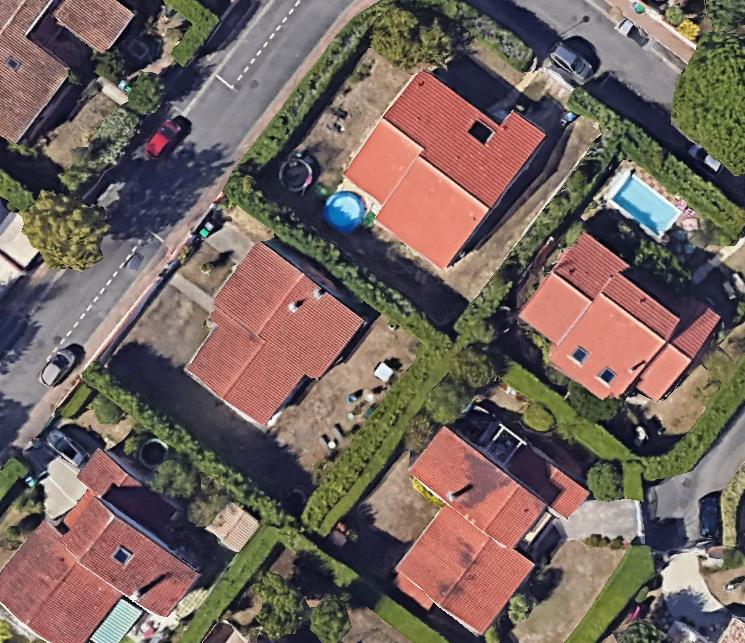maison: (349, 399, 588, 643), (328, 49, 548, 274), (504, 223, 723, 431), (0, 445, 224, 643), (168, 236, 368, 440), (0, 0, 132, 142)
